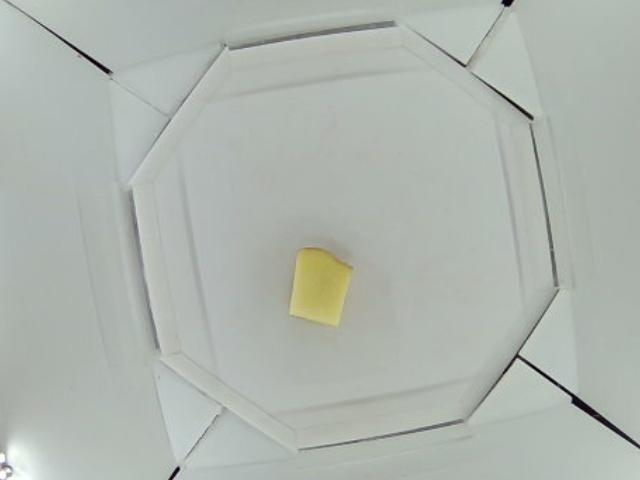Potato: (289, 246, 352, 324)
